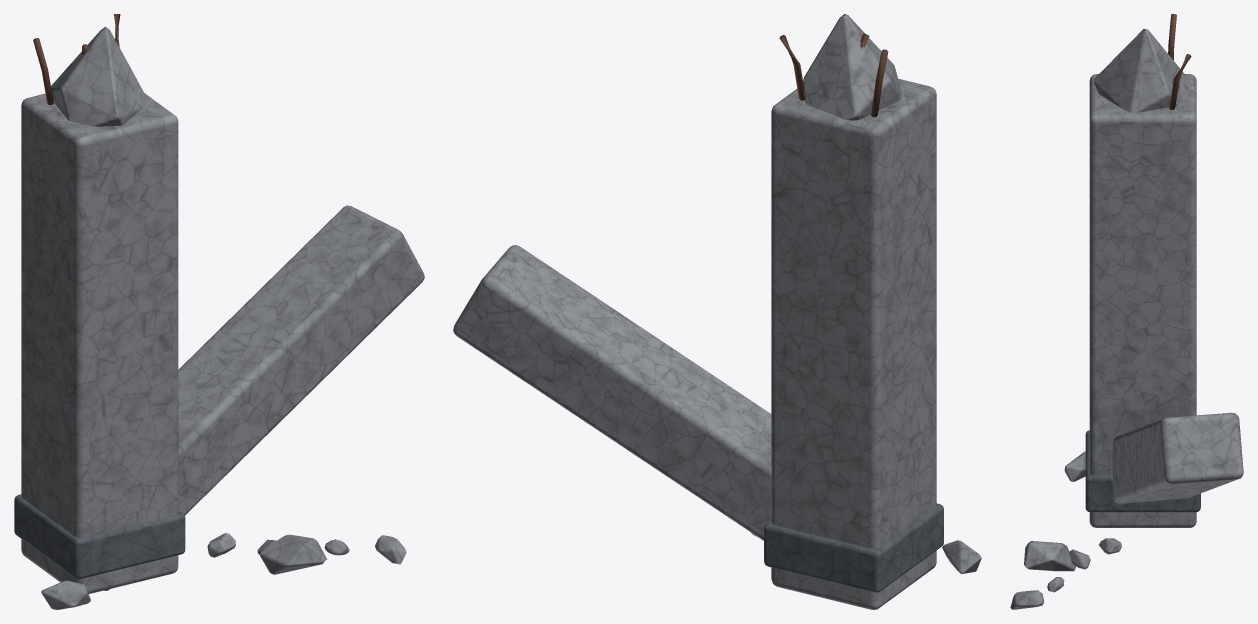
The model's file is ruin_pillar.glb.
The picture shows the model from 3 angles, left to right: view 1: azimuth 30°, elevation 25°; view 2: azimuth 150°, elevation 25°; view 3: azimuth 270°, elevation 25°; orthographic projection. The views are drawn at different scales.
Visible parts, largest first — view 1: Prop_ruin_pillar; view 2: Prop_ruin_pillar; view 3: Prop_ruin_pillar.
Boxes of the visible parts, <box> form: Prop_ruin_pillar: <box>14,14,424,609</box>; Prop_ruin_pillar: <box>453,14,981,609</box>; Prop_ruin_pillar: <box>1010,14,1243,609</box>.
Size of the model in its own units: 3.33 by 4.01 by 1.74.
Materials: 3 (3 with a texture image).
